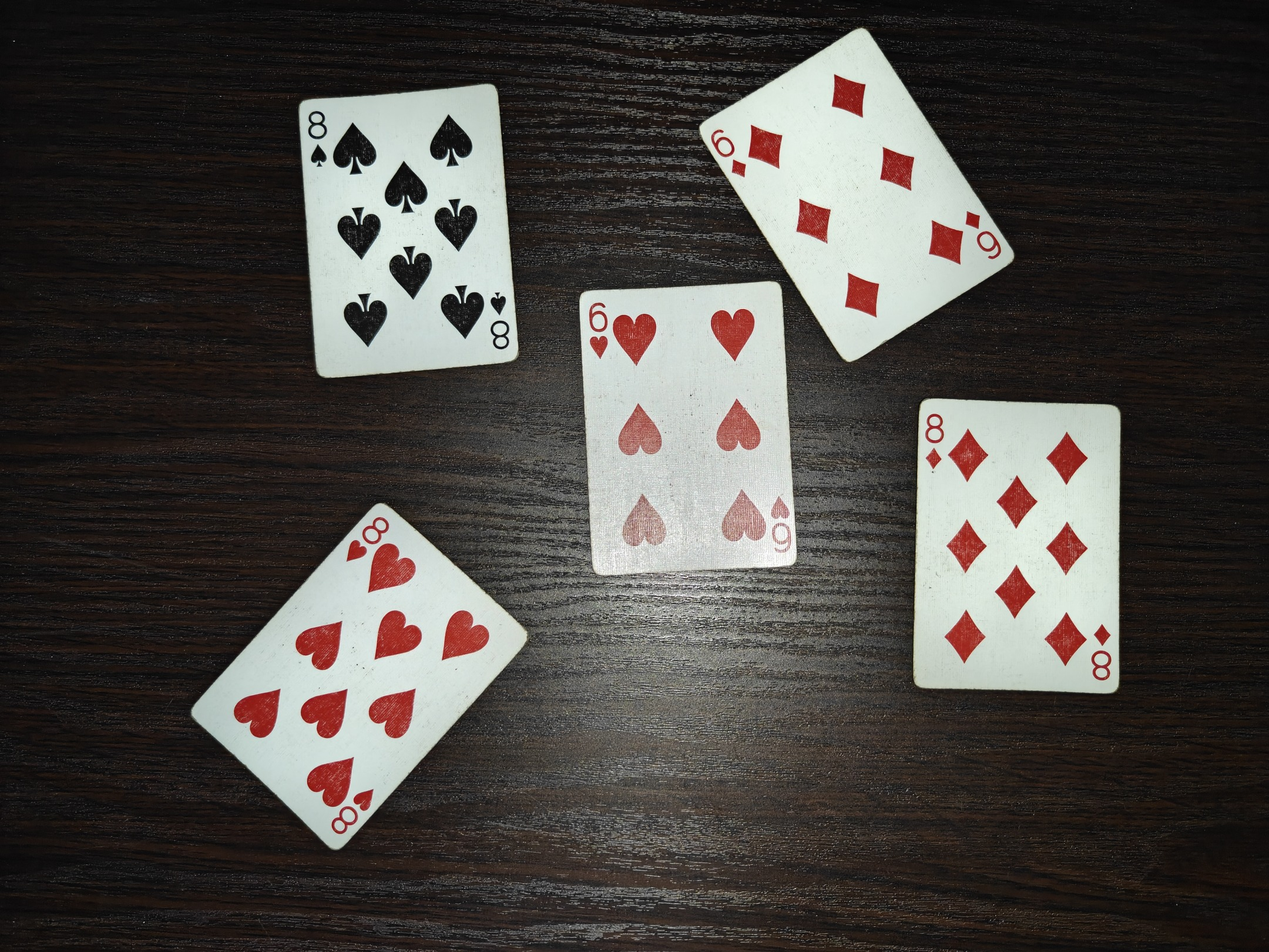6D: (699, 25, 1016, 363)
6H: (579, 283, 798, 576)
8D: (914, 397, 1123, 695)
8H: (188, 500, 528, 851)
8S: (300, 81, 521, 379)
